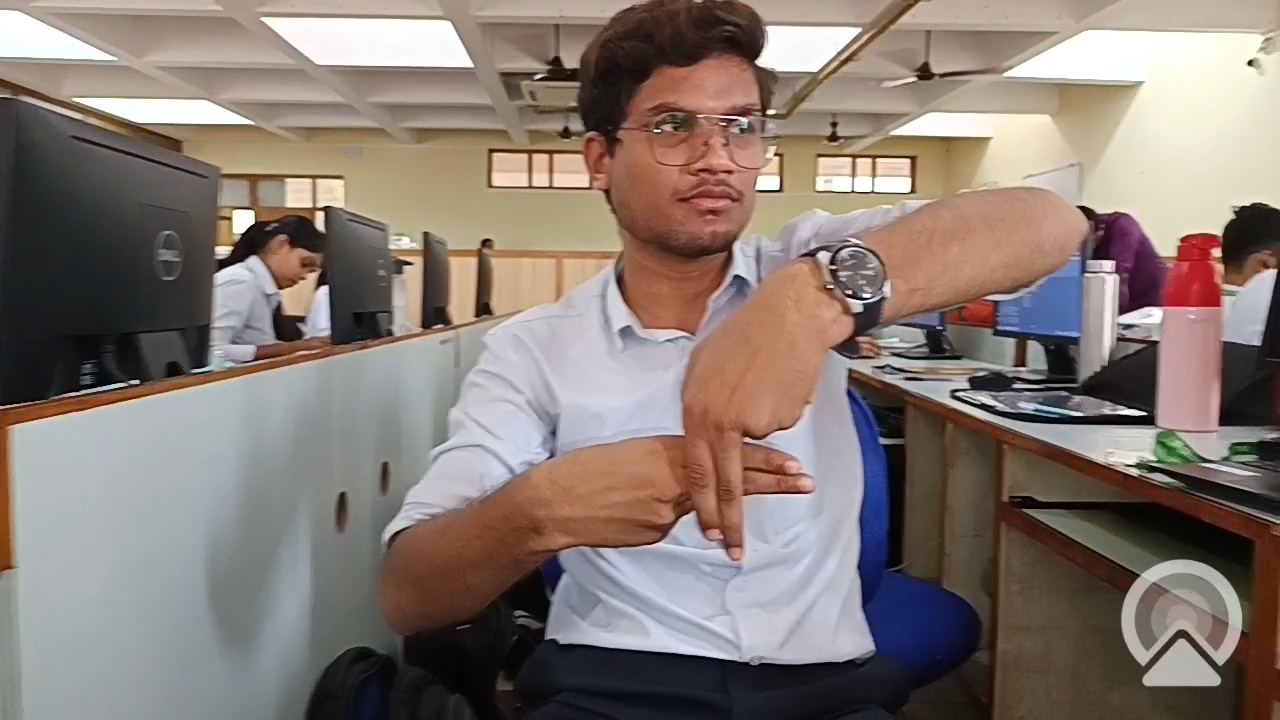F: (544, 287, 901, 581)
